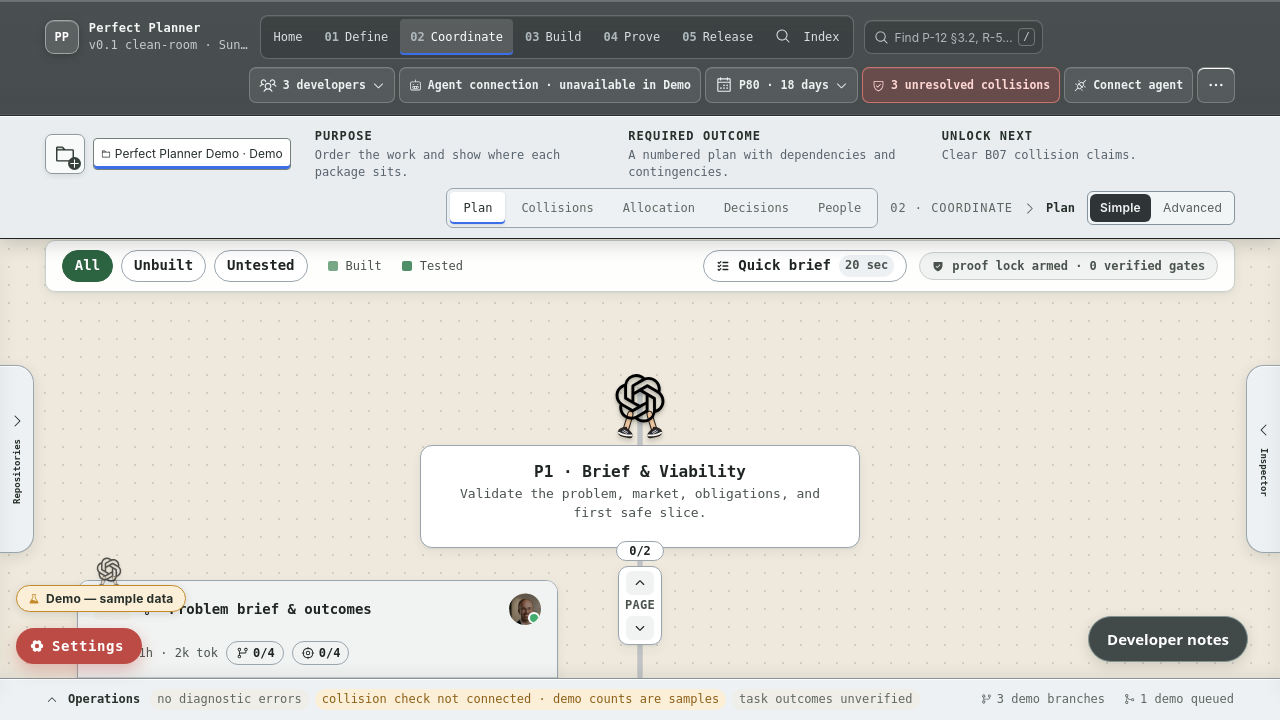
Test: Demo controls are honest about being sample data › Operations explains its blocker and the sample merge gate cannot pretend to run
This screenshot has width=1280, height=720.
Click the button with class "ops-handle".
click(640, 700)  # box [0, 679, 1279, 719]
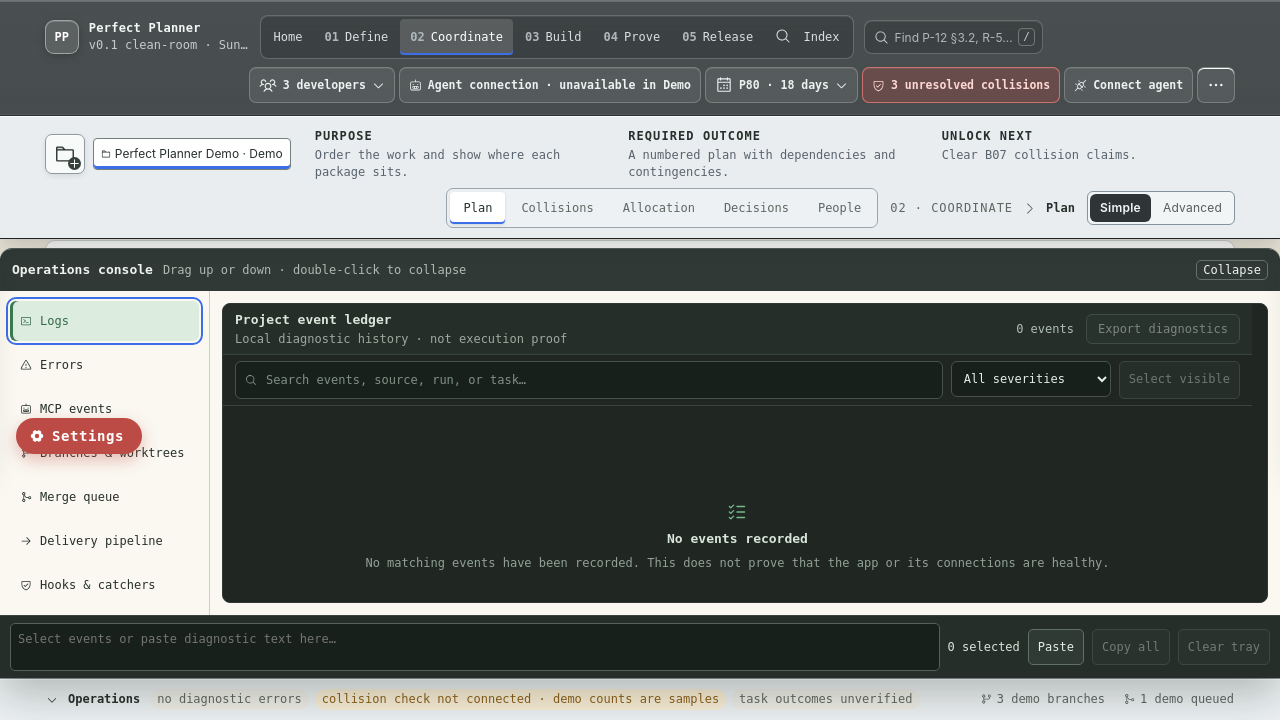
Click the button "Merge queue".
click(104, 497)  # box [10, 477, 199, 517]
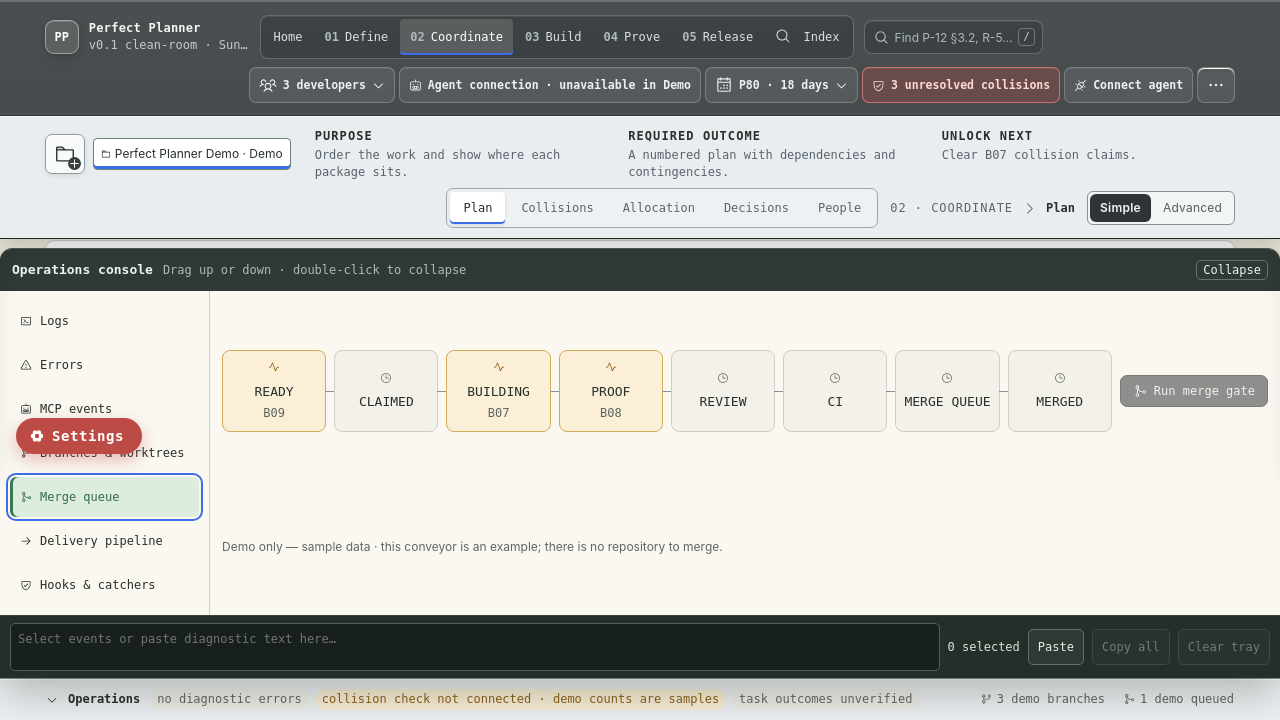
Click the button "Run merge gate".
click(1194, 391)  # box [1120, 375, 1268, 407]
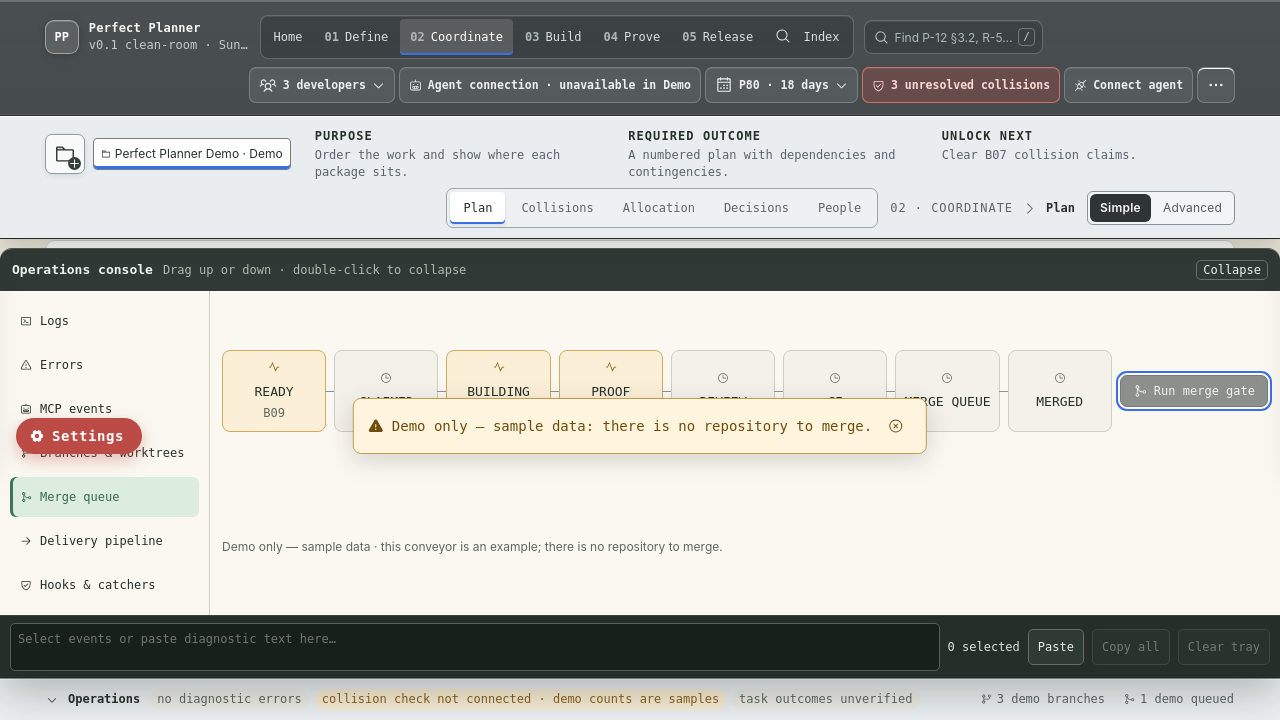
Now the element named "Run merge gate" shows "Demo only — sample data", box [222, 539, 370, 554]
Now the message with class "toast" shows "there is no repository to merge", box [392, 418, 872, 434]
